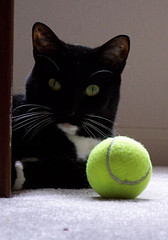tennis ball: (84, 134, 153, 199)
